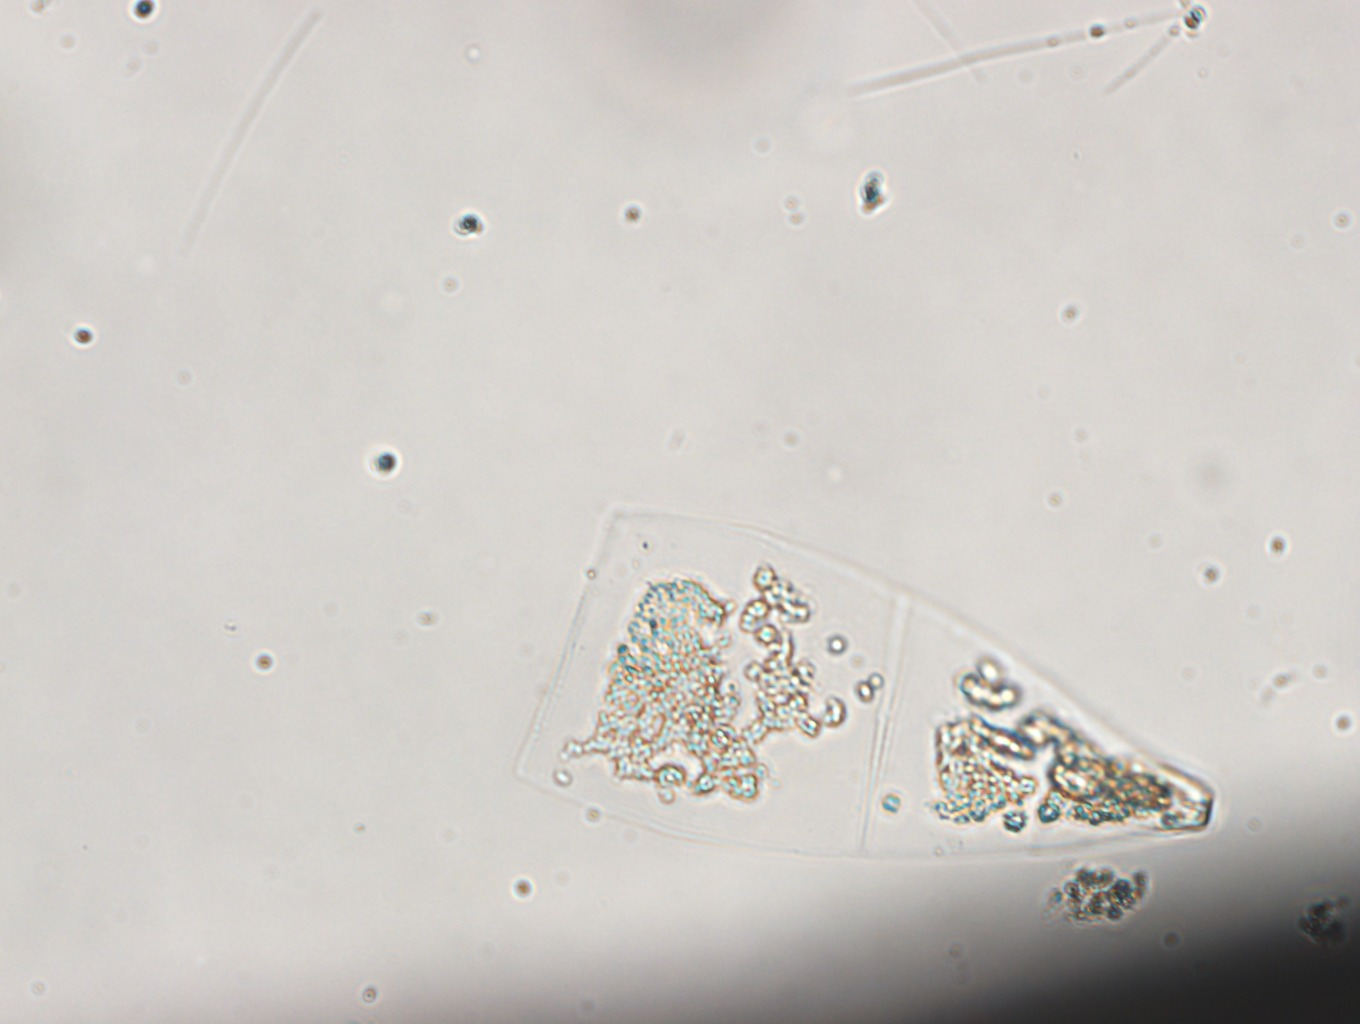helicotheca: (515, 510, 1218, 861)
